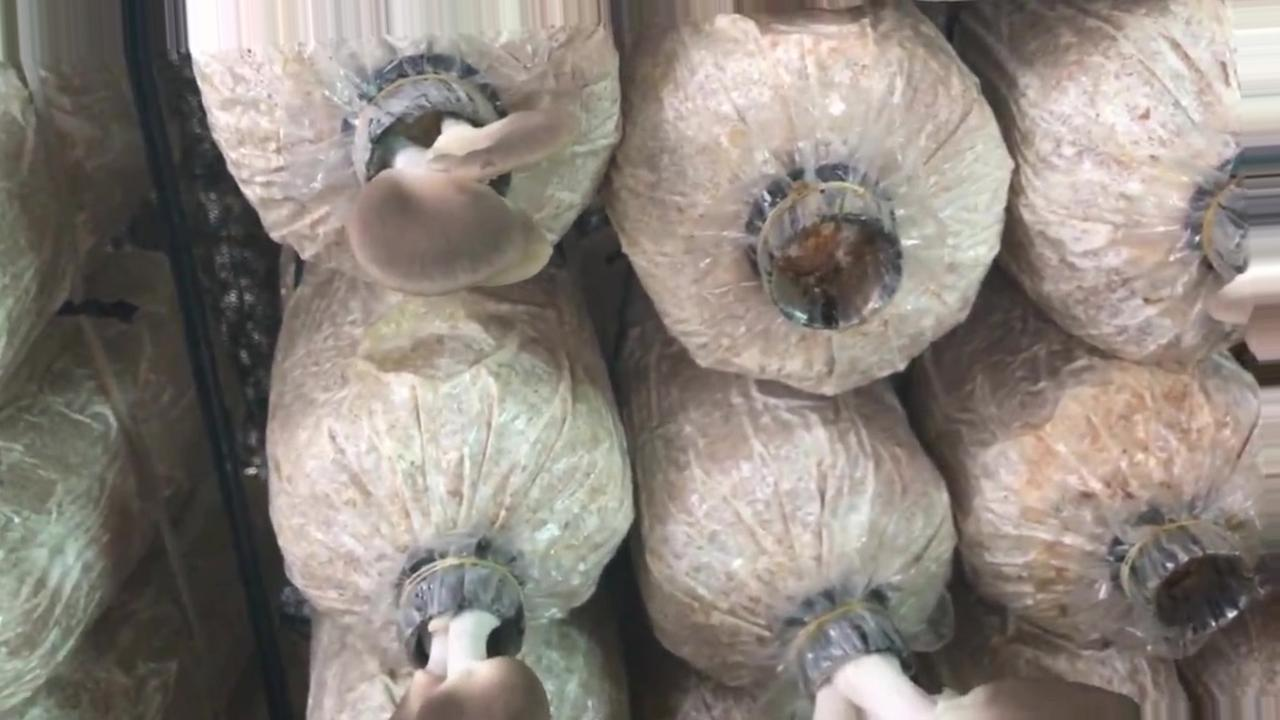nam: (346, 68, 586, 300), (784, 591, 1141, 720), (393, 549, 556, 718), (1189, 155, 1280, 356)
